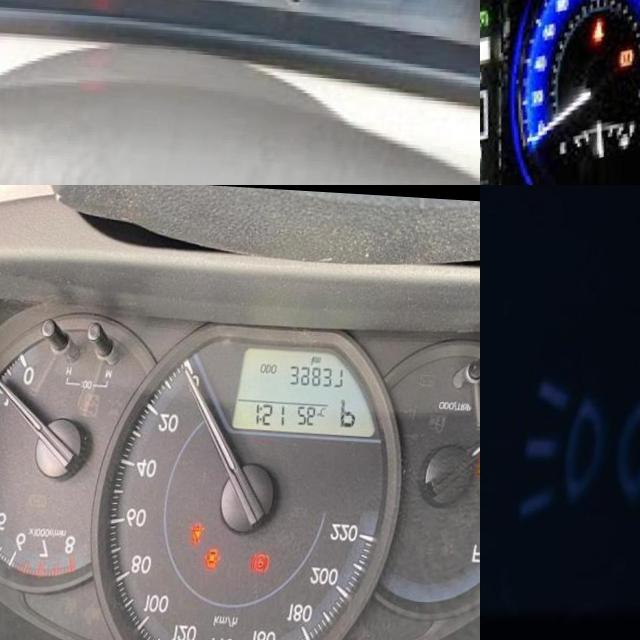Seat Belt: (201, 517, 218, 543), (598, 14, 613, 39)
